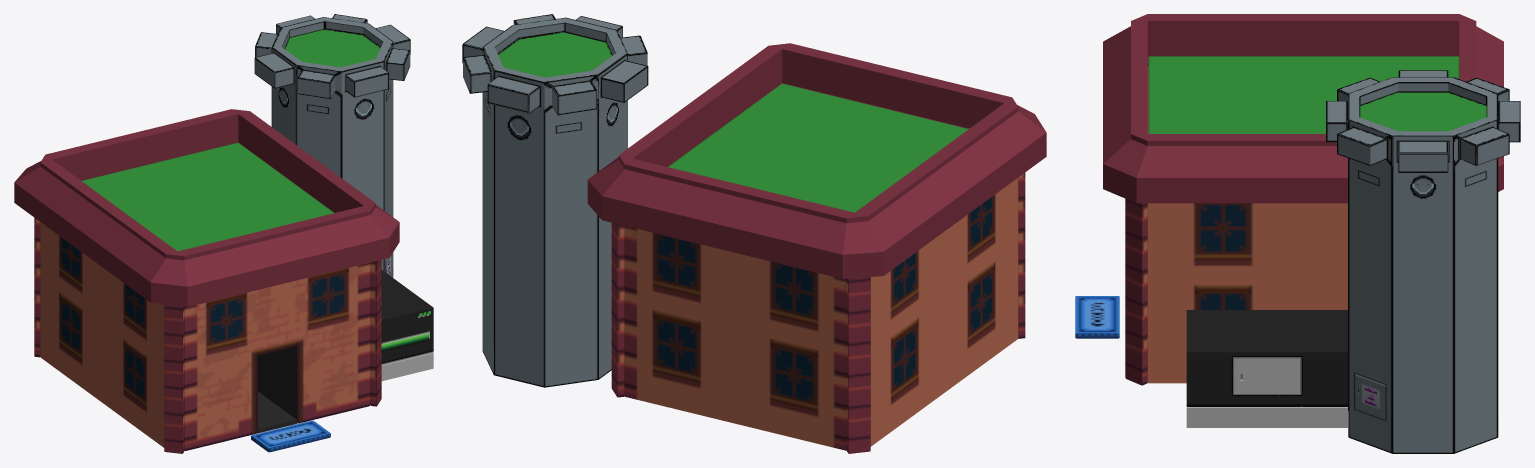
File: Not_So_Bad_Solarpunk_Lowpoly_House.fbx
3 views of the same model, side by side, from view 1: azimuth 30°, elevation 25°; view 2: azimuth 150°, elevation 25°; view 3: azimuth 270°, elevation 25° (orthographic). The views are drawn at different scales.
Visible parts, largest first — view 1: House, Solar_Tower, Solar_Battery; view 2: House, Solar_Tower; view 3: House, Solar_Tower, Solar_Battery.
Part boxes in pixels (box(x1,y1,x2,y2)): House: box(14, 109, 399, 453); Solar_Tower: box(254, 14, 410, 277); Solar_Battery: box(381, 270, 433, 381); House: box(587, 43, 1046, 453); Solar_Tower: box(462, 14, 648, 387); House: box(1075, 14, 1503, 385); Solar_Tower: box(1326, 70, 1520, 453); Solar_Battery: box(1186, 310, 1347, 427).
Size of the model in its own units: 5.88 by 5 by 3.94.
